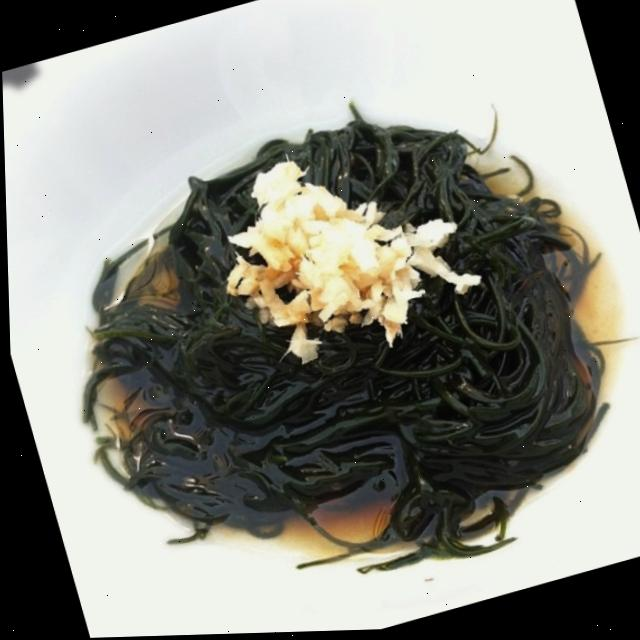蔬菜料理: (6, 30, 640, 640)
